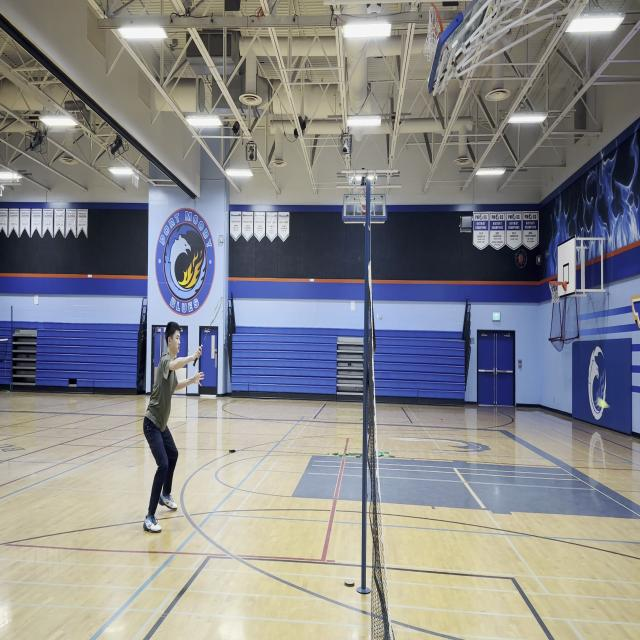shuttlecock: (597, 396, 610, 412)
